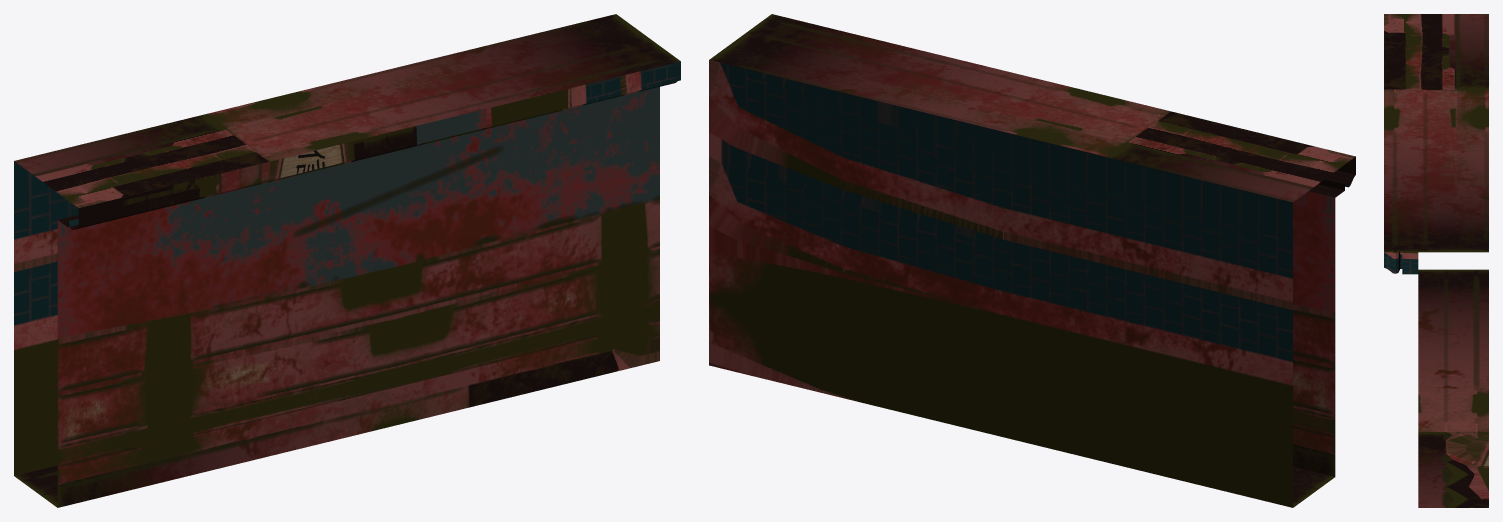
File: MEIA PAREDE 3M CIMA.fbx
3 renders of one model, left to right at view 1: azimuth 30°, elevation 25°; view 2: azimuth 150°, elevation 25°; view 3: azimuth 270°, elevation 25°, orthographic. The views are drawn at different scales.
Parts seen in each view (by area): view 1: Cube.039; view 2: Cube.039; view 3: Cube.039.
Part boxes in pixels (box(x1,y1,x2,y2)): Cube.039: box(14, 14, 680, 507); Cube.039: box(709, 14, 1355, 507); Cube.039: box(1384, 14, 1488, 507).
Bounding box in the file's own units: 300 × 150 × 55.82.
